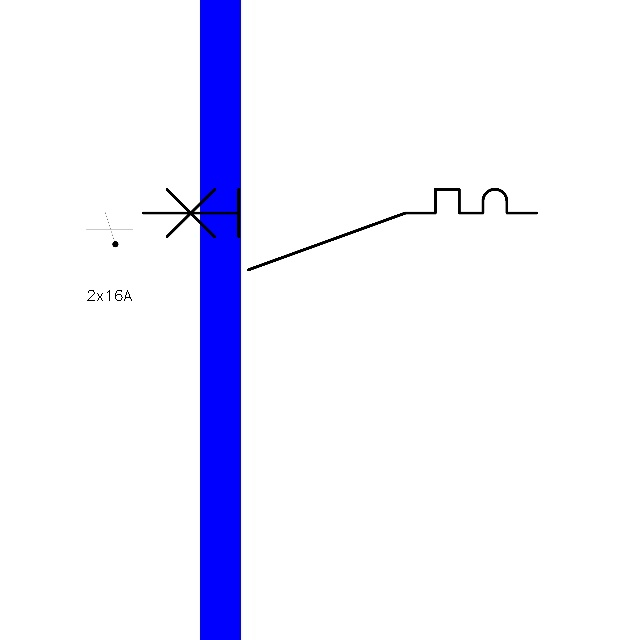interruptor_termomagnetico: (132, 179, 546, 280)
